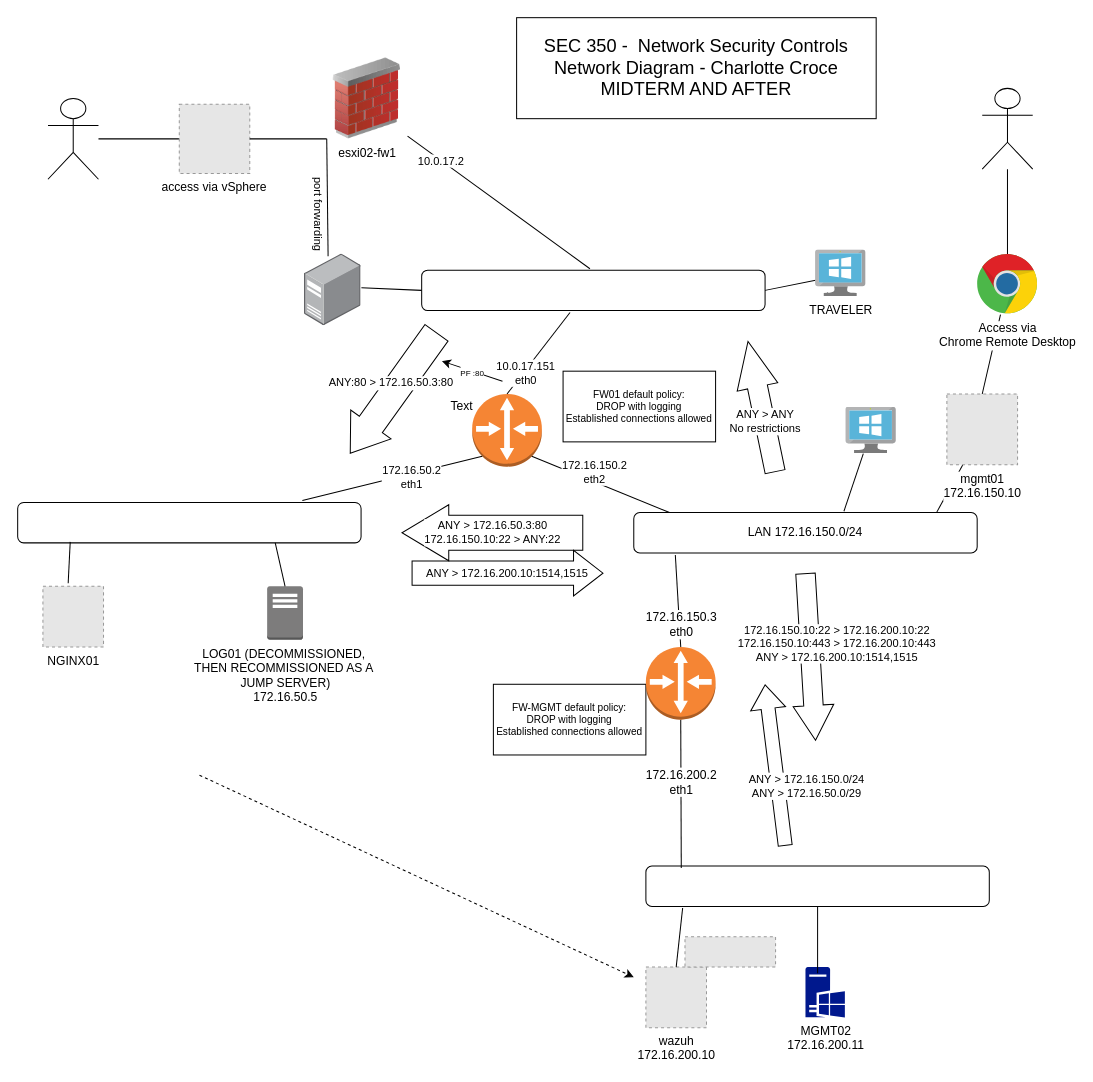
This 1093x1082 diagram has some shape labels left out. Grey dashed boxes stand in for pictures. The shapes that lost their labels are listed below. From the top down, each one's centre as x and y in pixels, then its label:
the point at 332,289: sec350.cyber.local 10.0.17.100
the point at 593,290: SEC-350 WAN 10.0.17.0/24
the point at 506,430: EDGE01
the point at 870,430: wks01 172.16.150.50
the point at 189,522: DMZ 172.16.50.0/29
the point at 680,683: FW-MGMT
the point at 817,885: MGMT 172.16.2000.0/28
